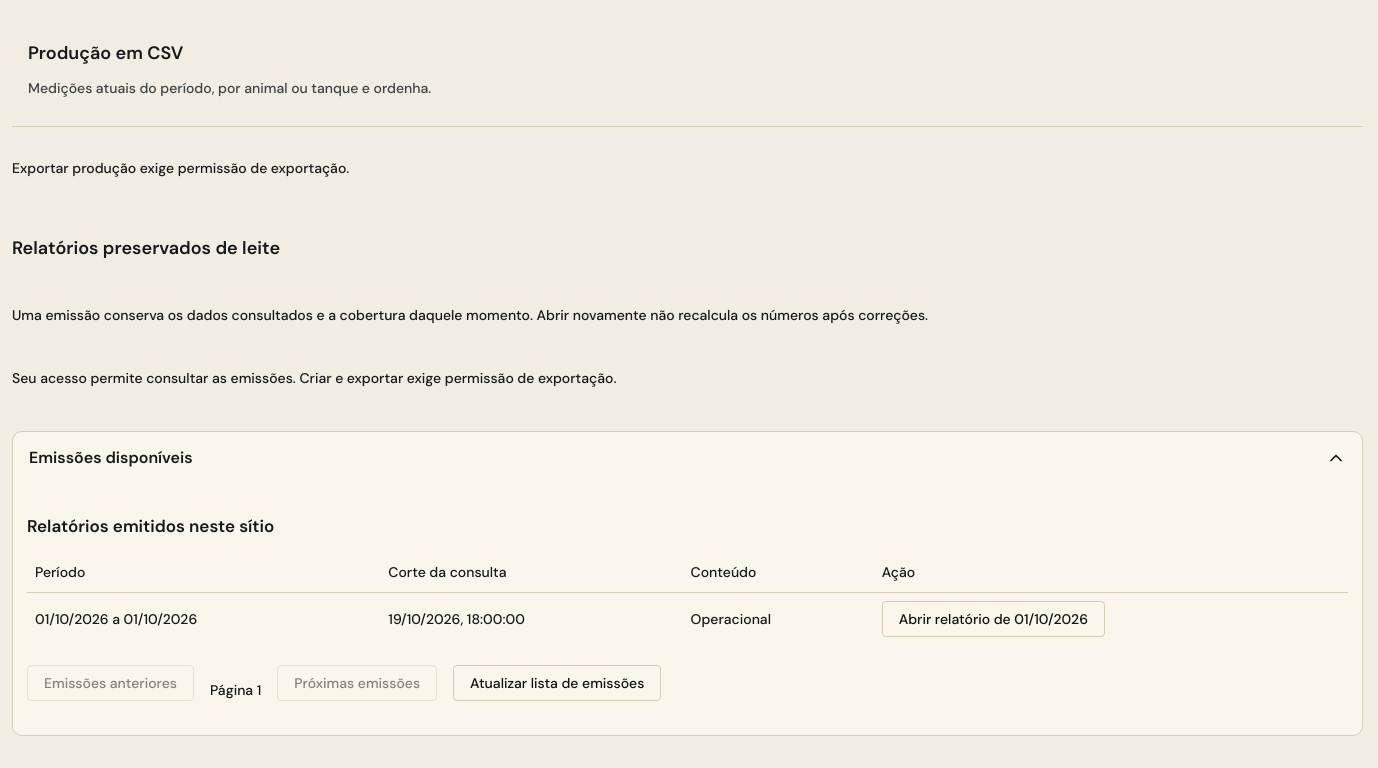
Scenario: separa expedição, aceite e faturamento documentado na emissão
Click the button "Abrir relatório de 01/10/2026" at (993, 619), box [882,601,1105,637]
(page scrolled)
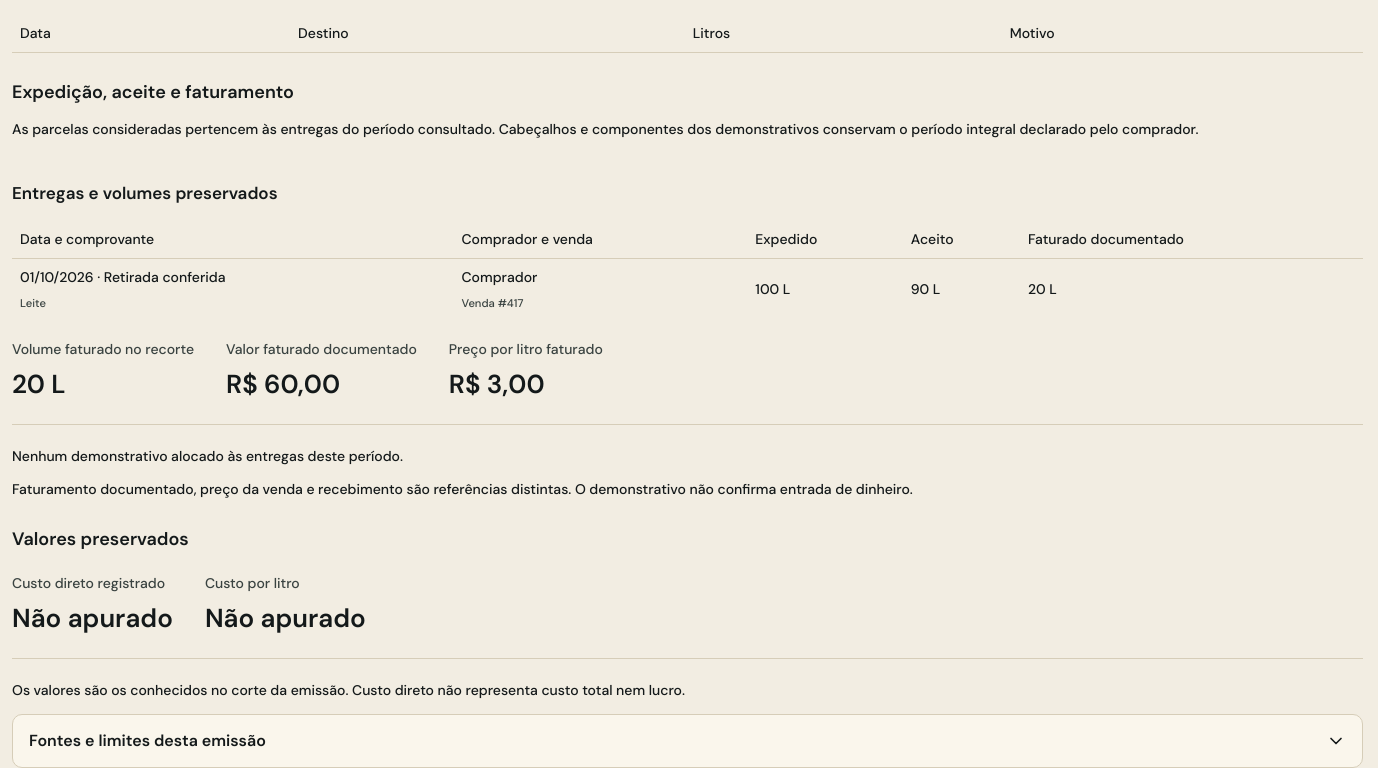
Check: the text "100 L" is shown, box [747,259,903,319]
Check: the text "90 L" is shown, box [903,259,1020,319]
Check: the text "20 L" is shown 2 times, box [1020,259,1363,319]; [12,367,66,401]
